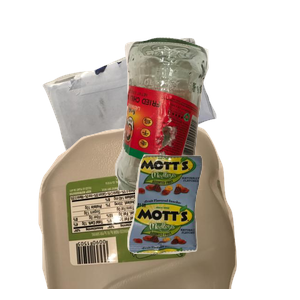glass: (112, 35, 300, 215)
paper: (40, 35, 249, 187)
plastic: (36, 120, 265, 300)
trash: (125, 152, 300, 300)
